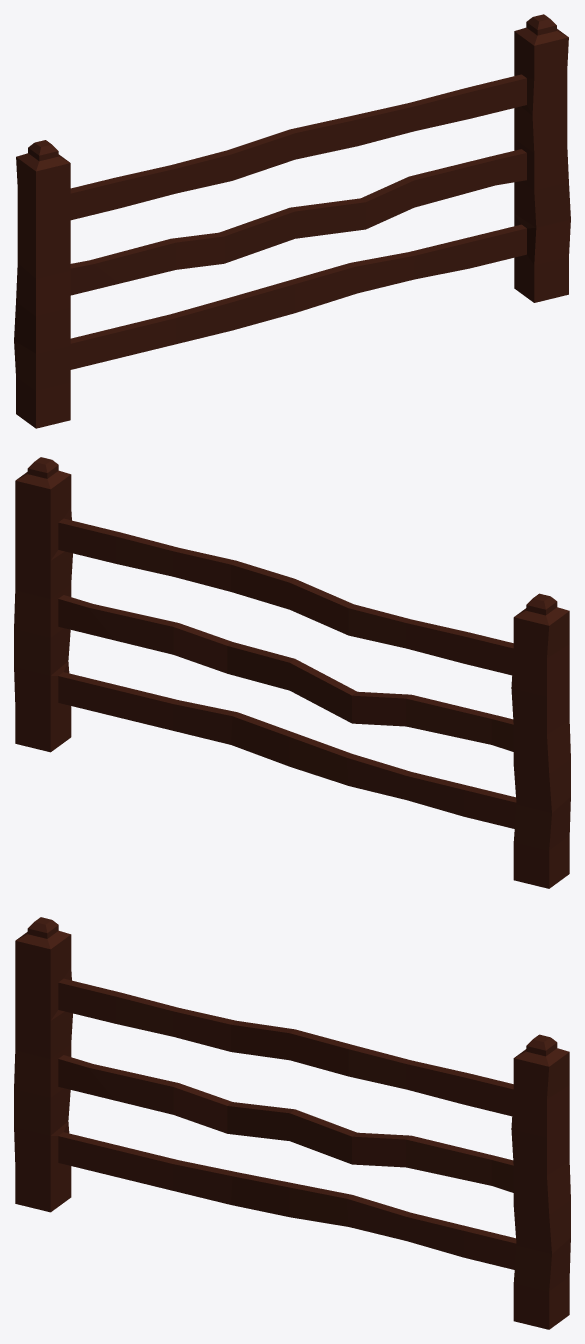
File: FecneEnd.fbx
3 renders of one model, top to bottom at view 1: azimuth 30°, elevation 25°; view 2: azimuth 150°, elevation 25°; view 3: azimuth 330°, elevation 25°, orthographic. The views are drawn at different scales.
Parts seen in each view (by area): view 1: FenceEnd; view 2: FenceEnd; view 3: FenceEnd.
Boxes of the visible parts, <box> form: FenceEnd: <box>14,14,570,428</box>; FenceEnd: <box>14,457,570,888</box>; FenceEnd: <box>14,917,570,1329</box>.
Size of the model in its own units: 837 by 425 by 70.77.
